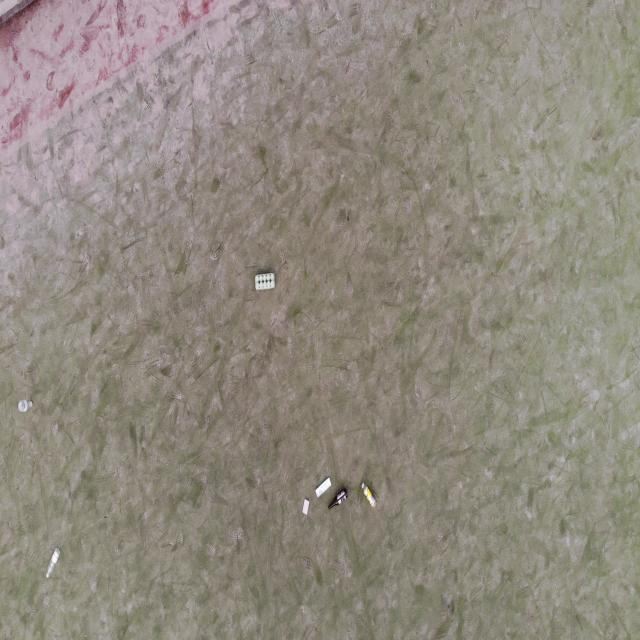rubbish: (46, 544, 60, 580), (329, 485, 349, 510), (255, 272, 275, 293), (314, 475, 332, 498), (362, 482, 377, 509), (18, 400, 33, 412), (302, 498, 310, 516)
